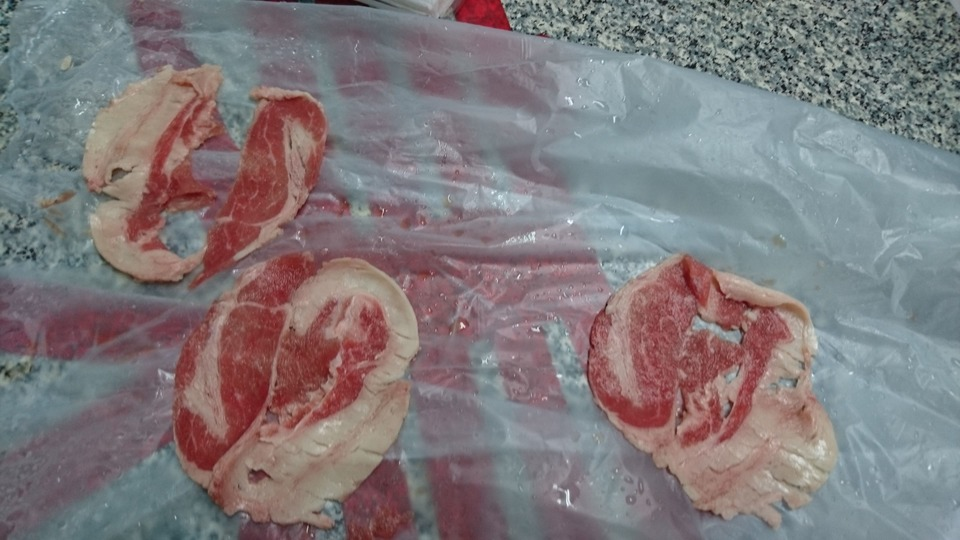restructured meat: (171, 243, 428, 533), (585, 250, 839, 531), (81, 60, 327, 282)
